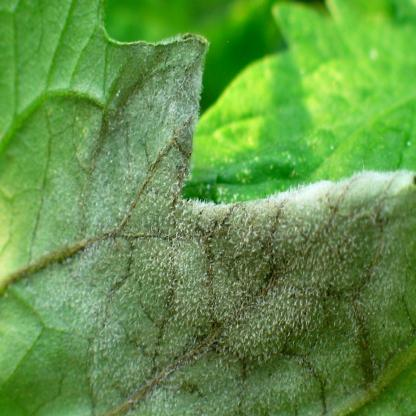tomato leaf late blight: (5, 4, 416, 416)
